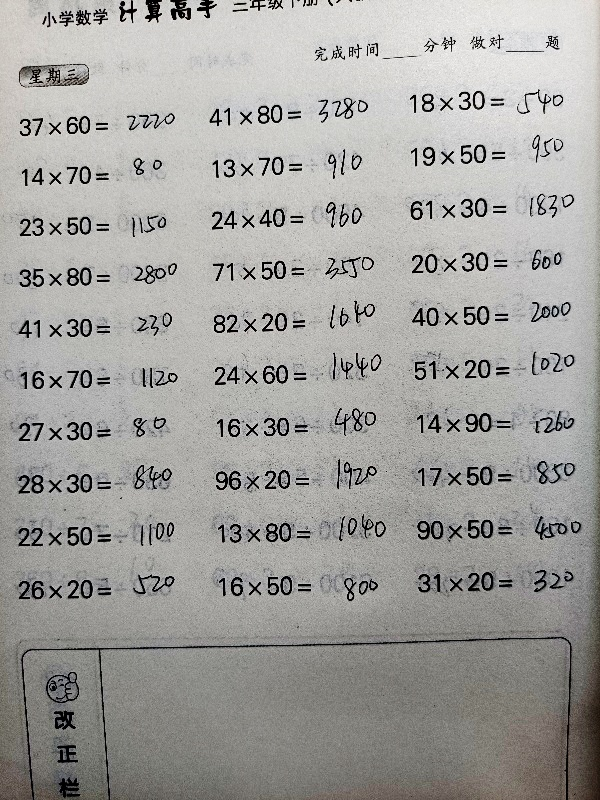equation: (408, 512, 588, 549), (10, 572, 190, 607), (209, 568, 389, 603), (409, 564, 589, 599), (10, 519, 190, 554), (208, 515, 388, 550), (9, 466, 189, 501), (206, 462, 386, 497), (410, 459, 590, 494), (407, 405, 587, 440), (205, 357, 385, 392), (405, 351, 585, 386), (10, 310, 190, 345), (403, 298, 583, 333), (204, 253, 384, 288), (402, 244, 582, 279), (401, 191, 581, 226), (203, 149, 383, 184), (402, 137, 582, 172), (400, 83, 580, 118), (10, 414, 190, 448), (208, 410, 388, 444), (12, 362, 192, 396), (204, 305, 384, 339), (10, 260, 190, 294), (11, 209, 191, 243), (203, 201, 383, 235), (12, 158, 192, 192), (200, 98, 380, 132), (10, 109, 190, 142)
